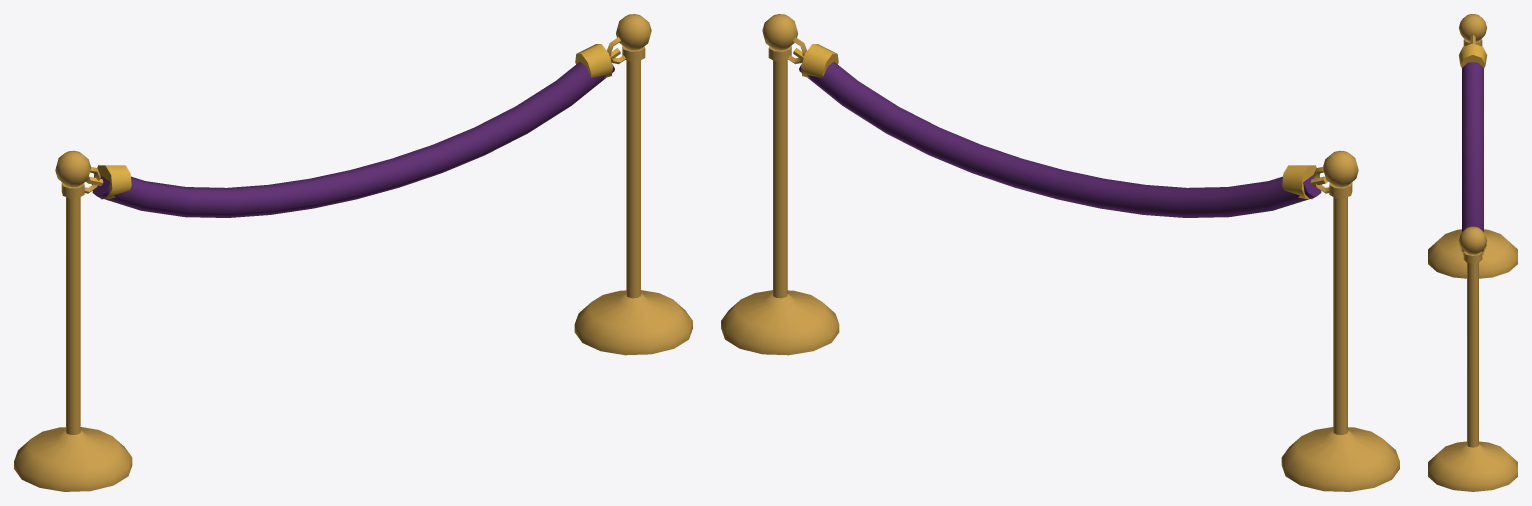
The model's file is Lobby_VelvetRope.fbx.
The picture shows the model from 3 angles, left to right: view 1: azimuth 30°, elevation 25°; view 2: azimuth 150°, elevation 25°; view 3: azimuth 270°, elevation 25°; orthographic projection. The views are drawn at different scales.
Parts seen in each view (by area): view 1: Rope, StanchionB, StanchionA, Clips; view 2: Rope, StanchionB, StanchionA, Clips; view 3: StanchionB, Rope, StanchionA, Clips.
Part boxes in pixels (x1,y1,x2,y2): Rope: (92, 62, 614, 217); StanchionB: (574, 14, 692, 355); StanchionA: (14, 150, 132, 491); Clips: (86, 44, 620, 199); Rope: (799, 62, 1321, 217); StanchionB: (721, 14, 839, 355); StanchionA: (1281, 150, 1399, 491); Clips: (793, 44, 1327, 199); StanchionB: (1428, 226, 1517, 491); Rope: (1462, 62, 1483, 251); StanchionA: (1428, 14, 1517, 278); Clips: (1458, 43, 1487, 254).
Size of the model in its own units: 710 by 322 by 107.
